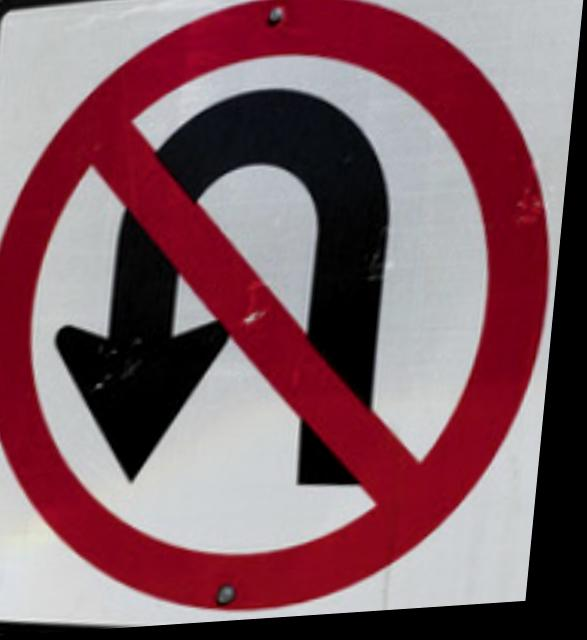not_u_turn_left: (0, 0, 583, 639)
